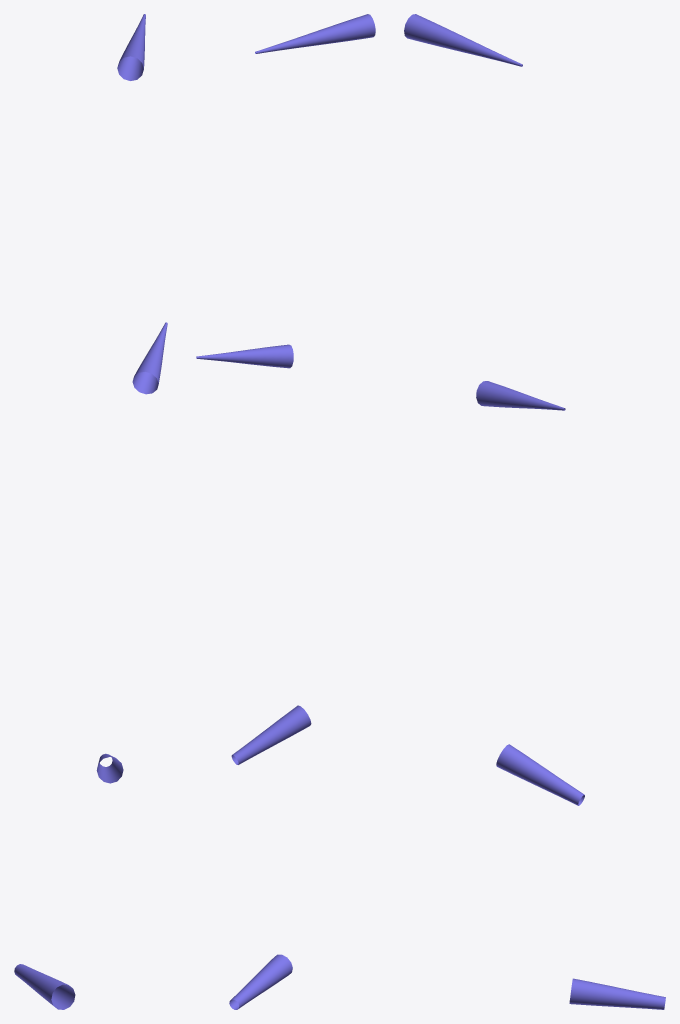
The model's file is Perforating_veins.l_BezierCurve.451.glb.
The picture shows the model from 3 angles, left to right: view 1: azimuth 30°, elevation 25°; view 2: azimuth 150°, elevation 25°; view 3: azimuth 270°, elevation 25°; orthographic projection. The views are drawn at different scales.
Parts seen in each view (by area): view 1: Perforating_veins.l_BezierCurve.451; view 2: Perforating_veins.l_BezierCurve.451; view 3: Perforating_veins.l_BezierCurve.451.
Part boxes in pixels (<box>): Perforating_veins.l_BezierCurve.451: <box>14,14,167,1009</box>; Perforating_veins.l_BezierCurve.451: <box>196,14,375,1009</box>; Perforating_veins.l_BezierCurve.451: <box>404,14,665,1009</box>.
Bounding box in the file's own units: 0.0216 × 0.1679 × 0.0405.
